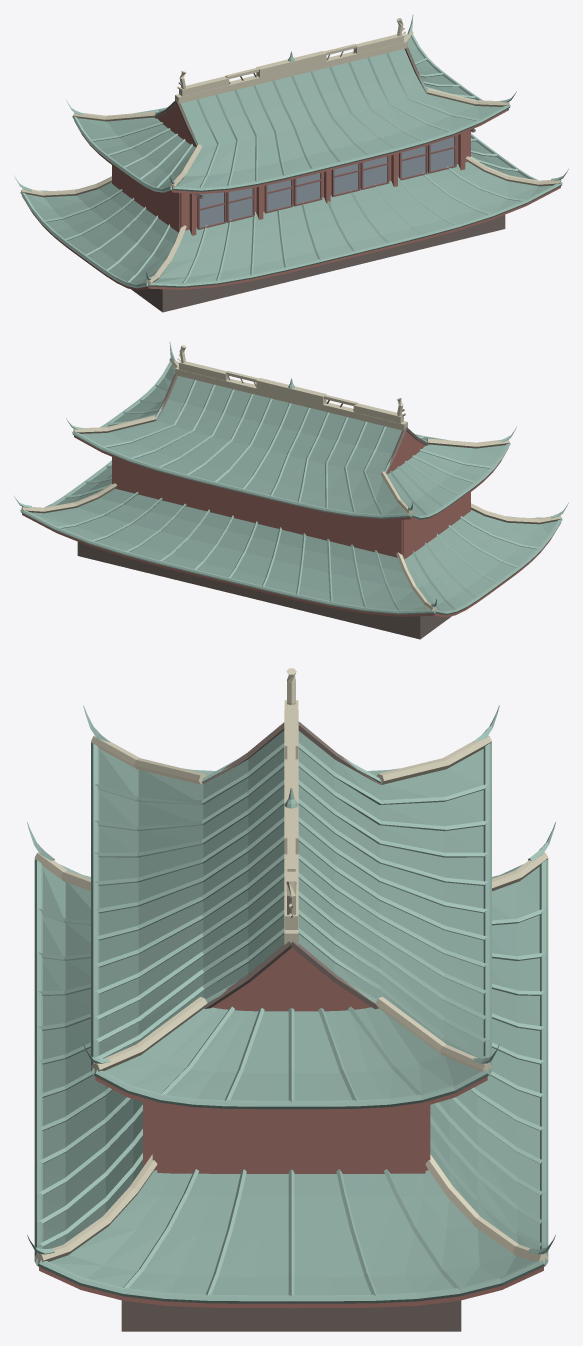
Rendered from huangpu-shanghai-commercial-savings-bank-pavilion-lod.glb.
3 renders of one model, top to bottom at view 1: azimuth 30°, elevation 25°; view 2: azimuth 150°, elevation 25°; view 3: azimuth 270°, elevation 25°, orthographic. The views are drawn at different scales.
Parts seen in each view (by area): view 1: 上海商业储蓄银行宁波路主楼重檐歇山楼亭; view 2: 上海商业储蓄银行宁波路主楼重檐歇山楼亭; view 3: 上海商业储蓄银行宁波路主楼重檐歇山楼亭.
Part boxes in pixels (box(x1,y1,x2,y2)): 上海商业储蓄银行宁波路主楼重檐歇山楼亭: box(14, 15, 568, 312); 上海商业储蓄银行宁波路主楼重檐歇山楼亭: box(14, 342, 568, 639); 上海商业储蓄银行宁波路主楼重檐歇山楼亭: box(27, 668, 555, 1331).
Size of the model in its own units: 17.53 by 7.71 by 9.49.
